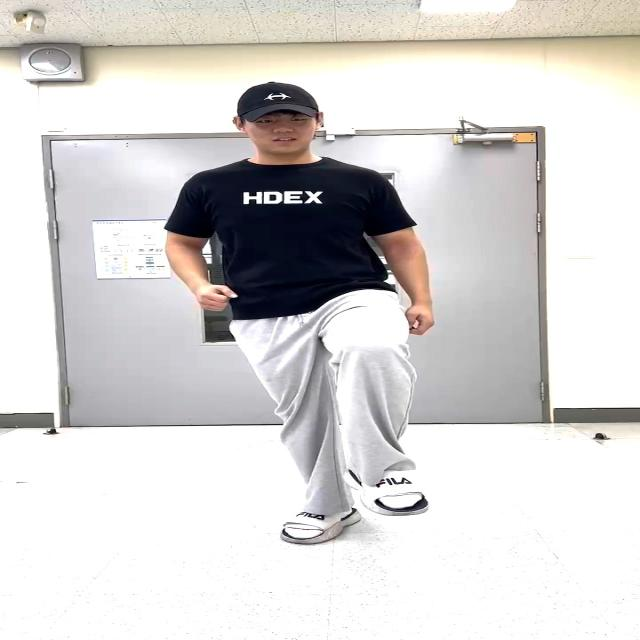leg: (307, 314, 474, 529)
